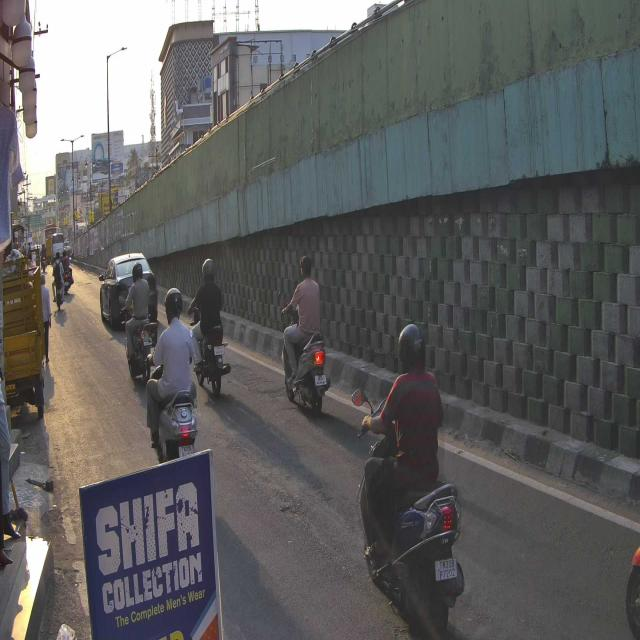single_rider: (353, 321, 467, 639), (144, 287, 197, 467), (277, 252, 332, 416)
